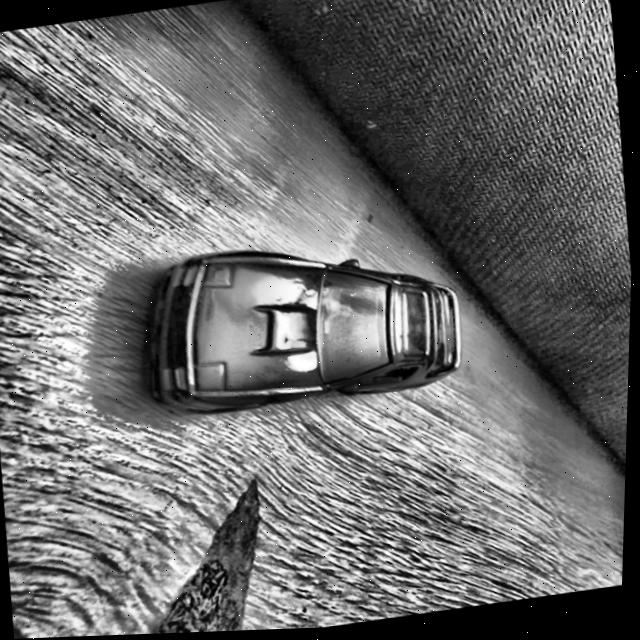car: (137, 222, 472, 427)
